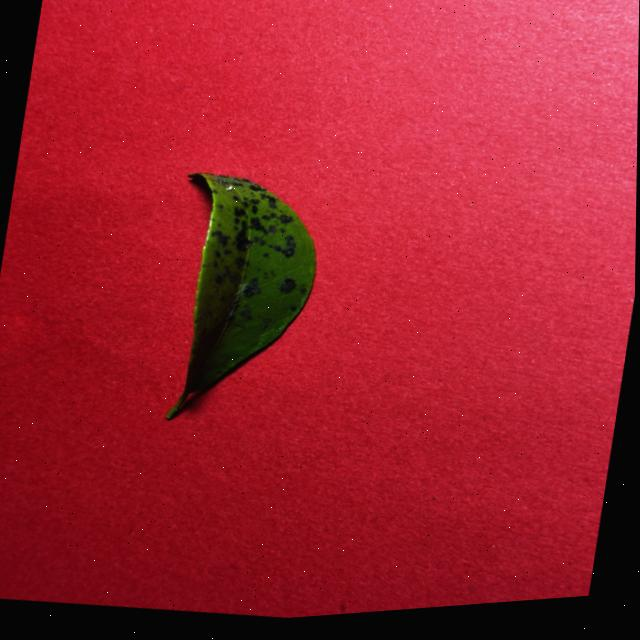sooty_mold: (169, 173, 315, 415)
